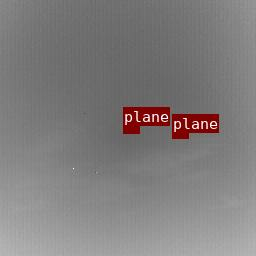plane: (123, 126, 139, 133), (172, 133, 188, 138)
